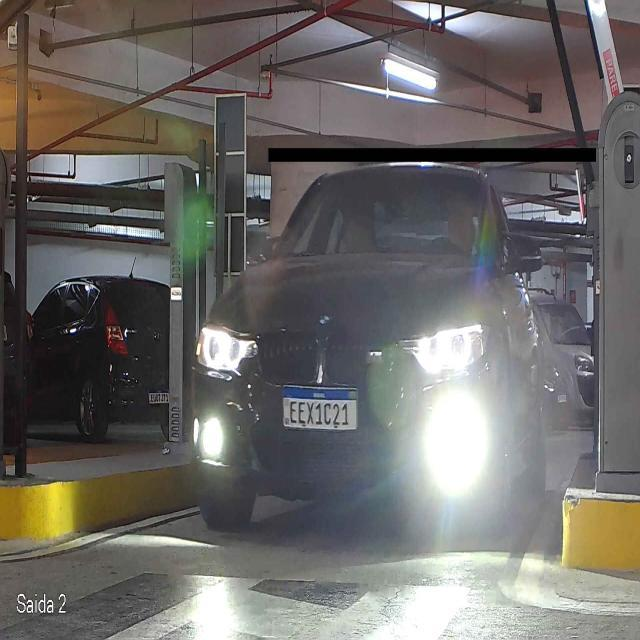mercosul_plate: (280, 385, 360, 431)
